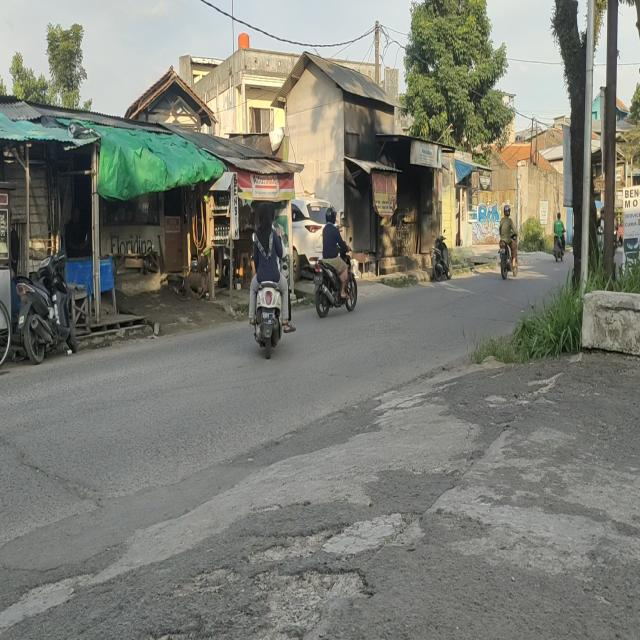helmet: (326, 204, 336, 224), (503, 204, 511, 217)
no-helmet: (257, 203, 269, 226), (268, 201, 276, 224), (557, 211, 562, 220)
